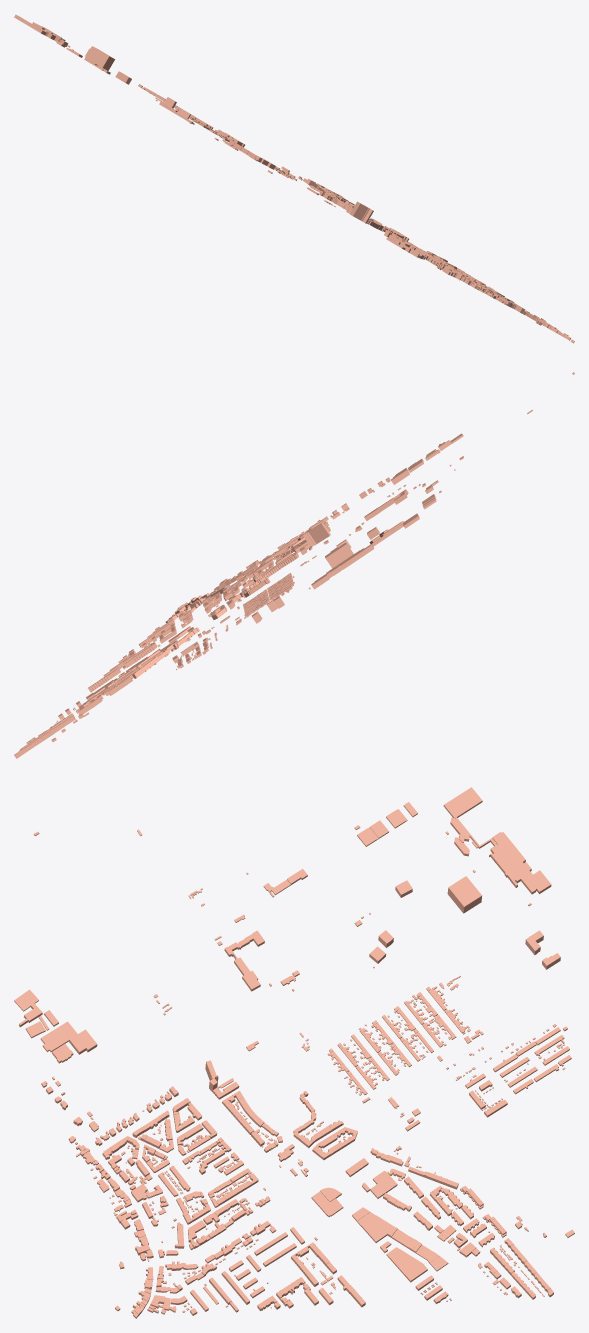
The picture shows the model from 3 angles, top to bottom: view 1: azimuth 30°, elevation 25°; view 2: azimuth 150°, elevation 25°; view 3: azimuth 270°, elevation 25°; orthographic projection. The views are drawn at different scales.
Bounding box in the file's own units: 1066 × 784 × 1221.
